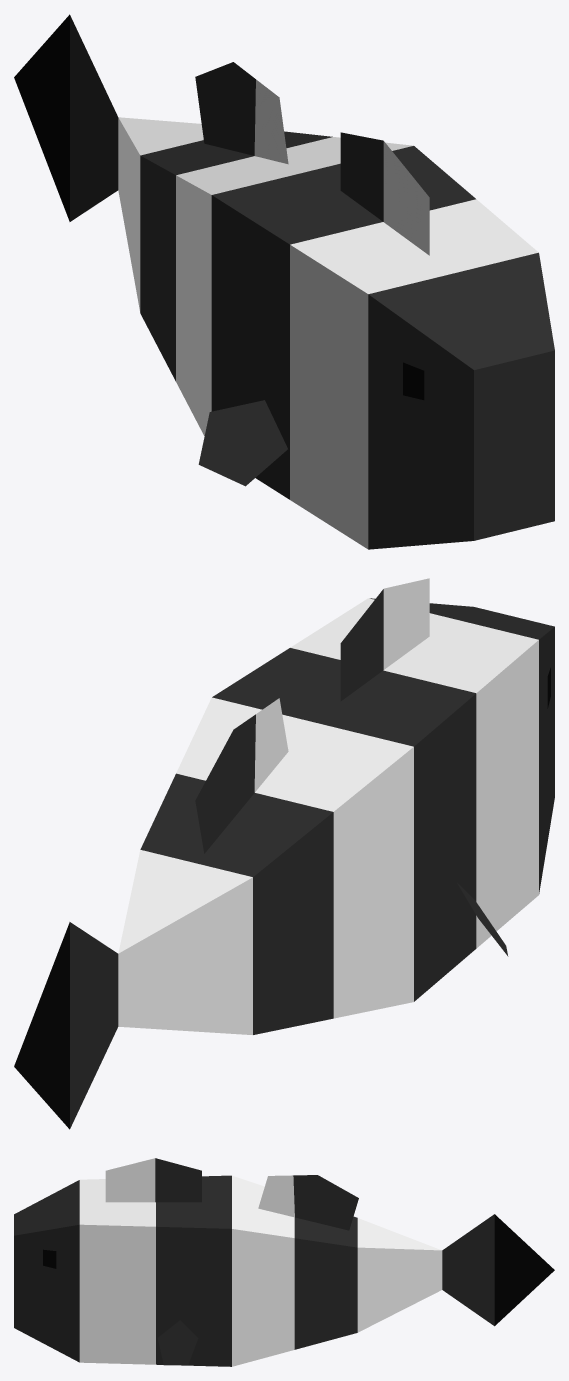
Rendered from 08fish.fbx.
3 renders of one model, top to bottom at view 1: azimuth 30°, elevation 25°; view 2: azimuth 150°, elevation 25°; view 3: azimuth 270°, elevation 25°, orthographic. The views are drawn at different scales.
Visible parts, largest first — view 1: Tropical Fish 08; view 2: Tropical Fish 08; view 3: Tropical Fish 08.
Boxes of the visible parts, x1,y1,x2,y2 form: Tropical Fish 08: (14, 14, 554, 549); Tropical Fish 08: (14, 578, 554, 1129); Tropical Fish 08: (14, 1158, 554, 1366).
Bounding box in the file's own units: 91.89 × 95.55 × 257.
